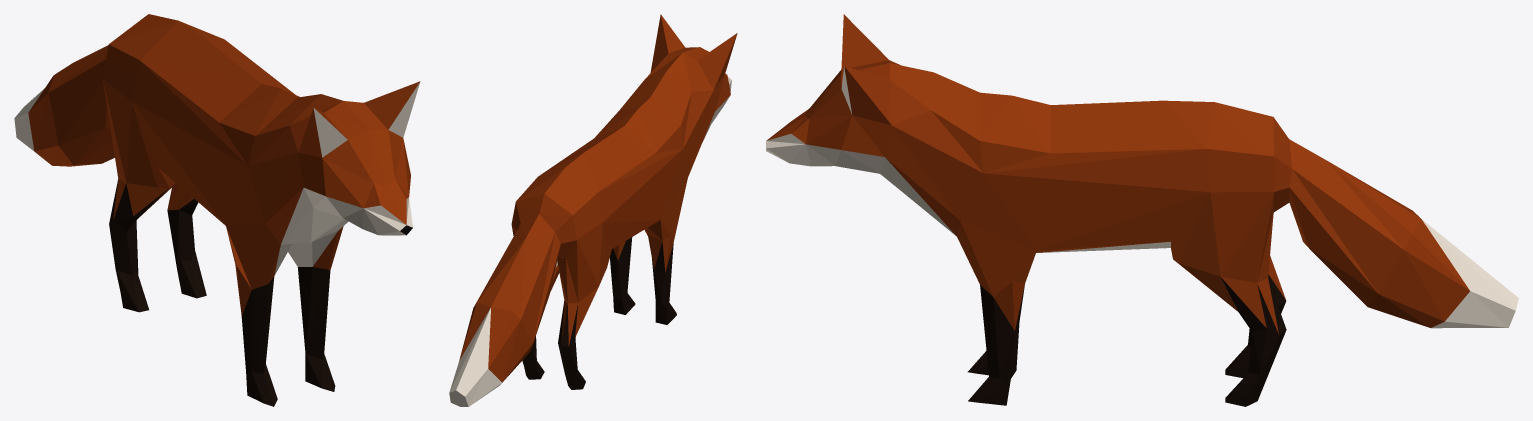
File: fox.obj
The picture shows the model from 3 angles, left to right: view 1: azimuth 30°, elevation 25°; view 2: azimuth 150°, elevation 25°; view 3: azimuth 270°, elevation 25°; orthographic projection. The views are drawn at different scales.
Visible parts, largest first — view 1: Cube_001_Cube.003; view 2: Cube_001_Cube.003; view 3: Cube_001_Cube.003.
Part boxes in pixels (x1,y1,x2,y2): Cube_001_Cube.003: (14, 14, 420, 406); Cube_001_Cube.003: (449, 14, 737, 406); Cube_001_Cube.003: (766, 14, 1518, 406).
Size of the model in its own units: 0.8662 by 2.72 by 5.32.
